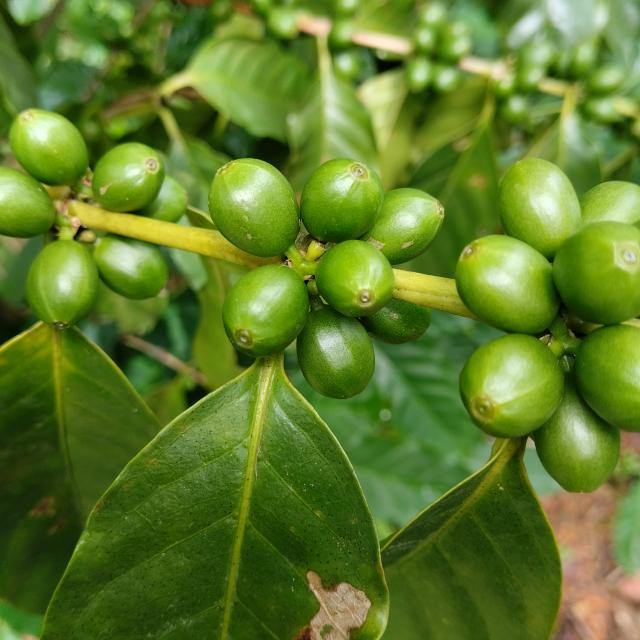green: (460, 334, 565, 438), (532, 371, 621, 493), (456, 235, 561, 334), (208, 158, 300, 257), (554, 221, 640, 325), (499, 158, 582, 260), (222, 264, 309, 357), (297, 296, 375, 399), (300, 158, 384, 242), (576, 324, 640, 432), (359, 188, 445, 265), (25, 239, 98, 328), (315, 239, 395, 317), (8, 108, 88, 185), (91, 142, 164, 212), (92, 234, 168, 300), (0, 166, 55, 238), (360, 299, 432, 344), (581, 181, 640, 225), (136, 174, 187, 222)
